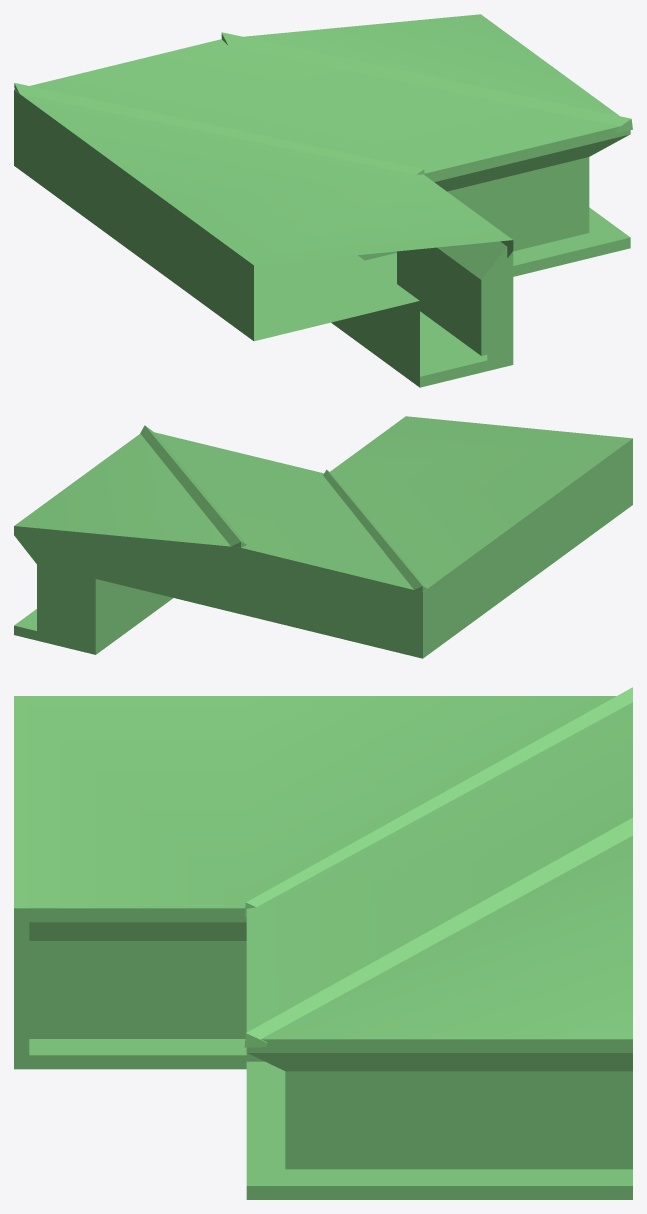
File: Bld3_Top_Cor_Inv3.fbx
3 views of the same model, one above another, from view 1: azimuth 30°, elevation 25°; view 2: azimuth 150°, elevation 25°; view 3: azimuth 270°, elevation 25° (orthographic). The views are drawn at different scales.
Parts seen in each view (by area): view 1: Bld3_Top_Cor_Inv3; view 2: Bld3_Top_Cor_Inv3; view 3: Bld3_Top_Cor_Inv3.
Part boxes in pixels (x1,y1,x2,y2): Bld3_Top_Cor_Inv3: [14, 14, 632, 387]; Bld3_Top_Cor_Inv3: [14, 416, 632, 658]; Bld3_Top_Cor_Inv3: [14, 687, 632, 1199].
Bounding box in the file's own units: 677 × 235 × 601.
